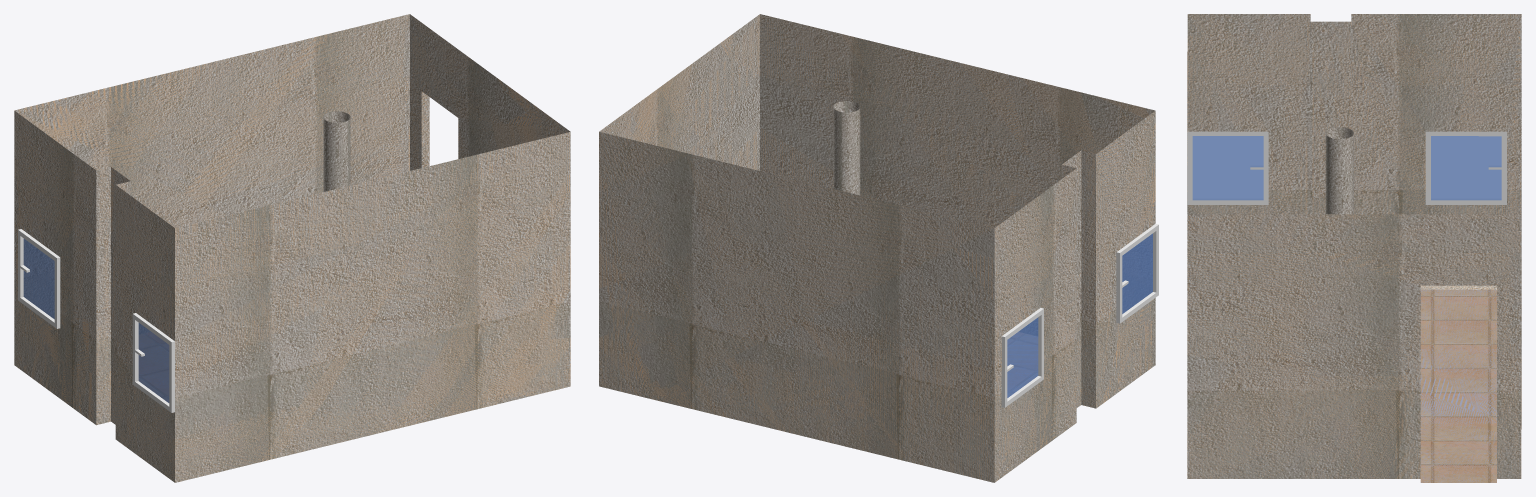
Rendered from COM009.obj.
3 renders of one model, left to right at view 1: azimuth 30°, elevation 25°; view 2: azimuth 150°, elevation 25°; view 3: azimuth 270°, elevation 25°, orthographic. The views are drawn at different scales.
Visible parts, largest first — view 1: Mesh7 COM009 Model, Mesh4 ventana3_1_2 COM009 Model, Mesh1 ventana3_1_1 COM009 Model; view 2: Mesh7 COM009 Model, Mesh1 ventana3_1_1 COM009 Model, Mesh4 ventana3_1_2 COM009 Model; view 3: Mesh7 COM009 Model, Mesh1 ventana3_1_1 COM009 Model, Mesh4 ventana3_1_2 COM009 Model.
Boxes of the visible parts, bbox=[...] form: Mesh7 COM009 Model: bbox=[14, 14, 570, 482]; Mesh4 ventana3_1_2 COM009 Model: bbox=[18, 229, 60, 328]; Mesh1 ventana3_1_1 COM009 Model: bbox=[132, 313, 174, 412]; Mesh7 COM009 Model: bbox=[599, 14, 1155, 482]; Mesh1 ventana3_1_1 COM009 Model: bbox=[1116, 224, 1158, 323]; Mesh4 ventana3_1_2 COM009 Model: bbox=[1001, 308, 1043, 407]; Mesh7 COM009 Model: bbox=[1187, 14, 1521, 482]; Mesh1 ventana3_1_1 COM009 Model: bbox=[1187, 131, 1268, 204]; Mesh4 ventana3_1_2 COM009 Model: bbox=[1425, 131, 1506, 204].
Size of the model in its own units: 6.02 by 3.6 by 4.12.
Materials: 6 (2 with a texture image).
